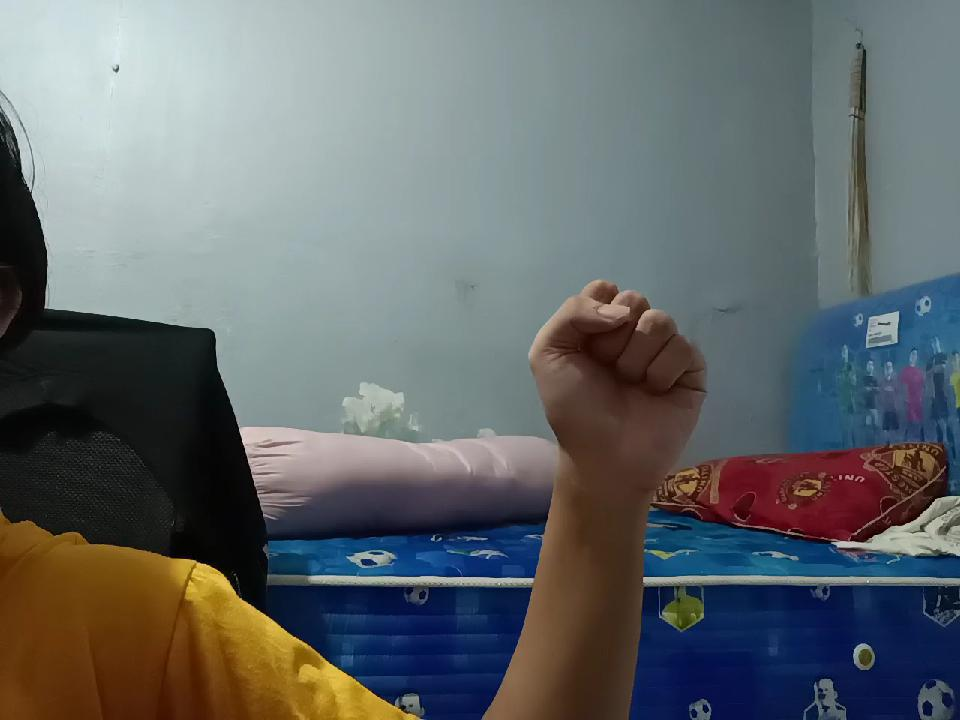rock: (526, 256, 706, 496)
